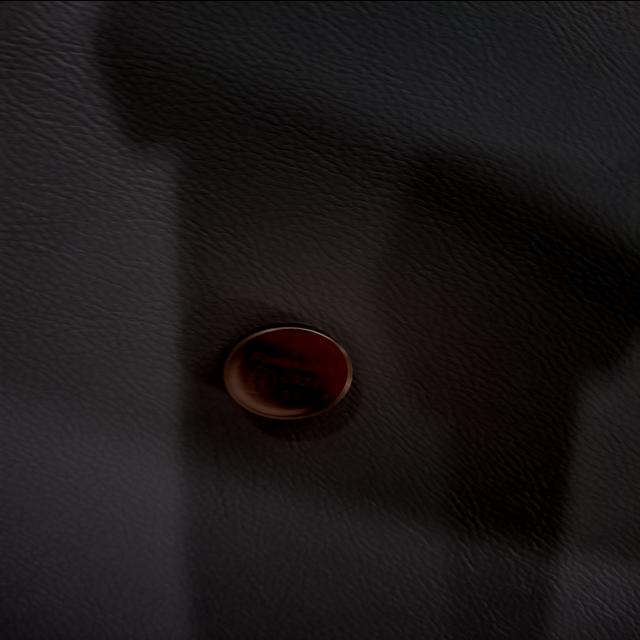COIN: (430, 374, 558, 474)
